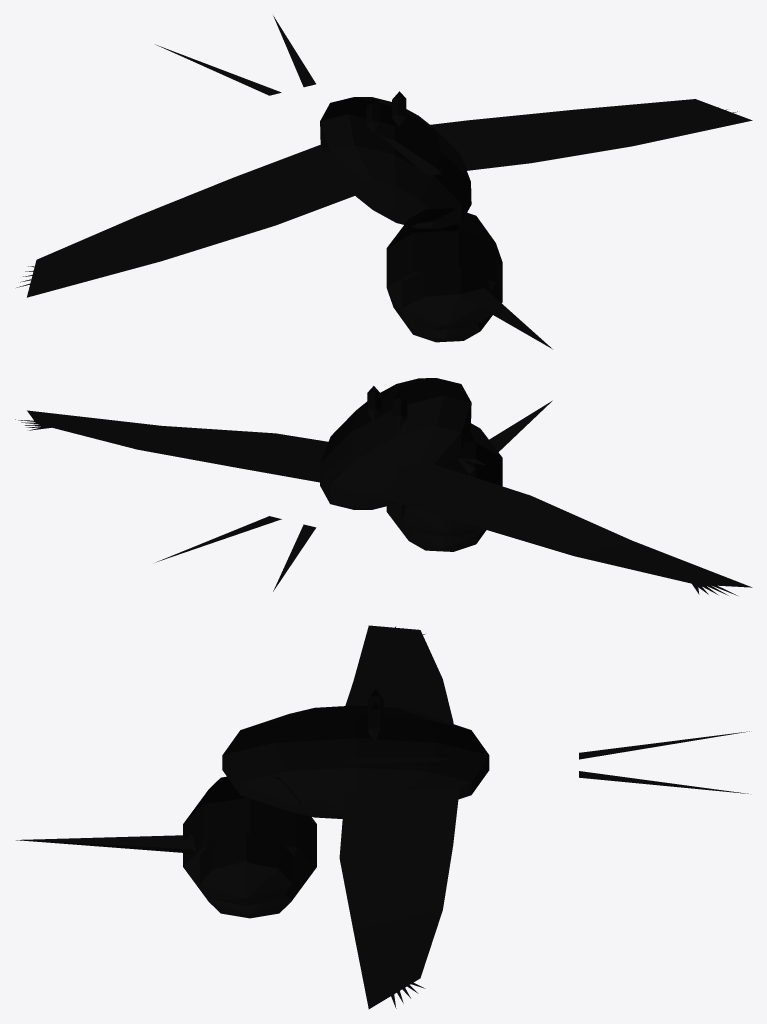
Rendered from gliding_06.glb.
The picture shows the model from 3 angles, top to bottom: view 1: azimuth 30°, elevation 25°; view 2: azimuth 150°, elevation 25°; view 3: azimuth 270°, elevation 25°; orthographic projection. The views are drawn at different scales.
Parts seen in each view (by area): view 1: BirdBody; view 2: BirdBody; view 3: BirdBody.
Part boxes in pixels (x1,y1,x2,y2): BirdBody: (16, 15, 752, 349); BirdBody: (15, 378, 752, 595); BirdBody: (16, 625, 749, 1009).
Bounding box in the file's own units: 1.13 × 0.3019 × 0.9215.
Materials: 1 (1 with a texture image).
